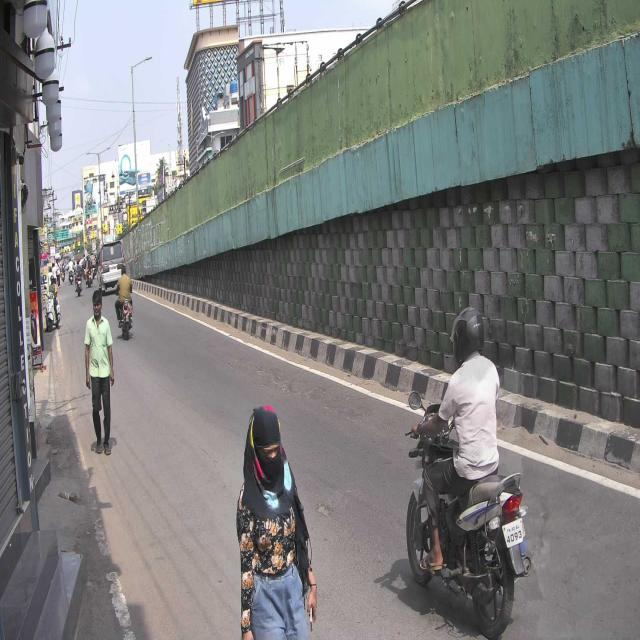single_rider: (404, 306, 533, 635)
